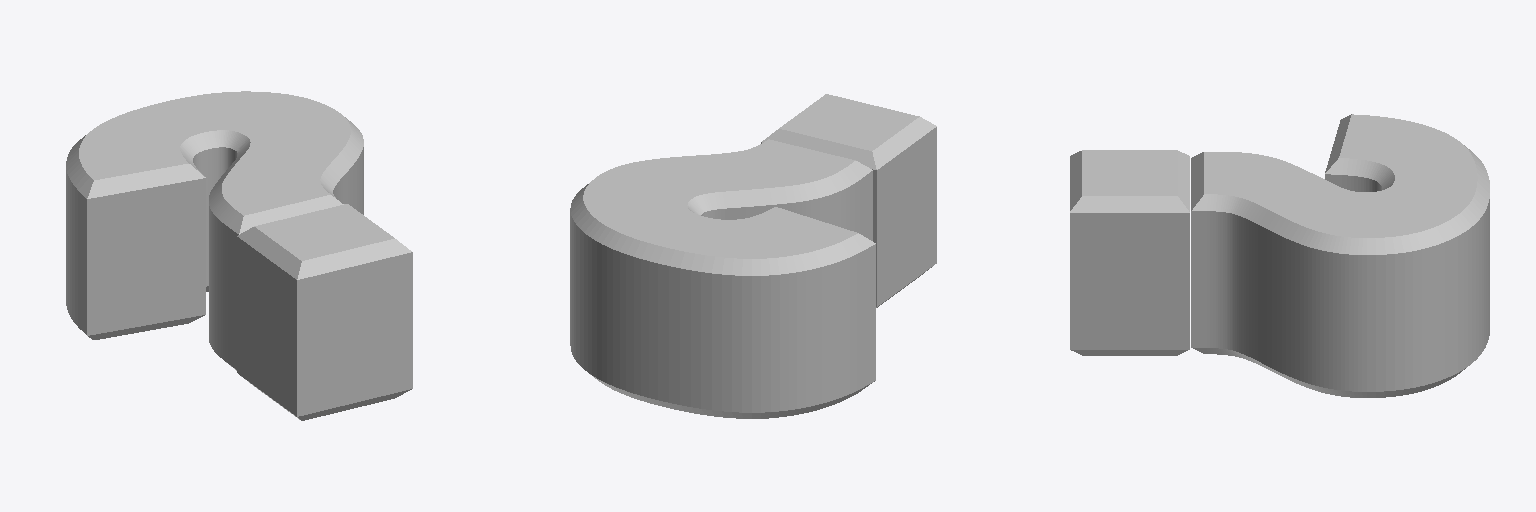
The model's file is reco.obj.
3 renders of one model, left to right at view 1: azimuth 30°, elevation 25°; view 2: azimuth 150°, elevation 25°; view 3: azimuth 270°, elevation 25°, orthographic.
Visible parts, largest first — view 1: Text; view 2: Text; view 3: Text.
Boxes of the visible parts, x1,y1,x2,y2 form: Text: [66, 91, 412, 420]; Text: [570, 94, 936, 418]; Text: [1070, 114, 1489, 397].
Size of the model in its own units: 0.424 by 0.234 by 0.5577.